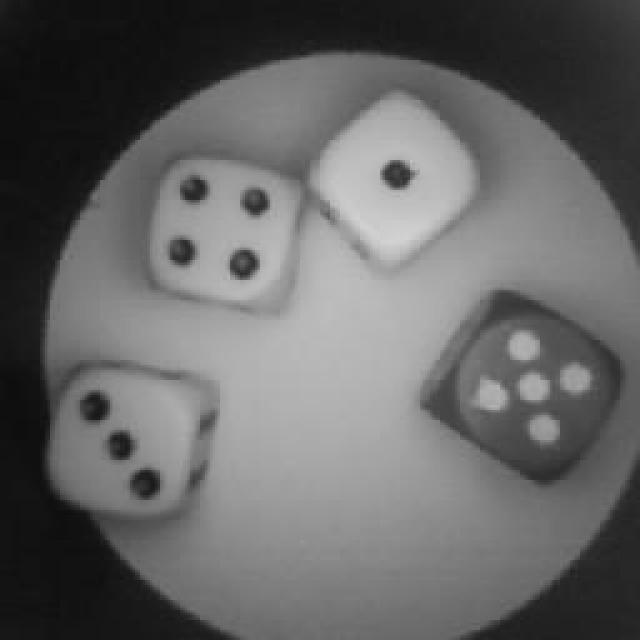dice_1: (322, 97, 472, 255)
dice_3: (45, 360, 205, 525)
dice_4: (155, 148, 307, 298)
dice_5: (440, 295, 618, 477)
